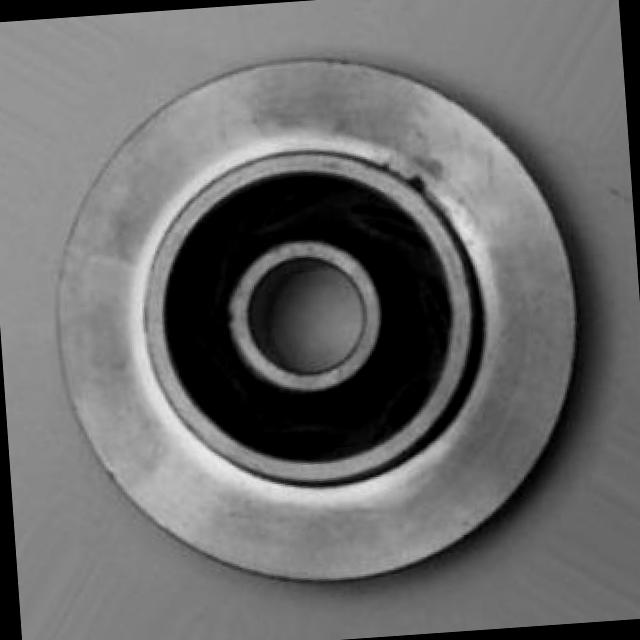Defect: (410, 168, 432, 197)
